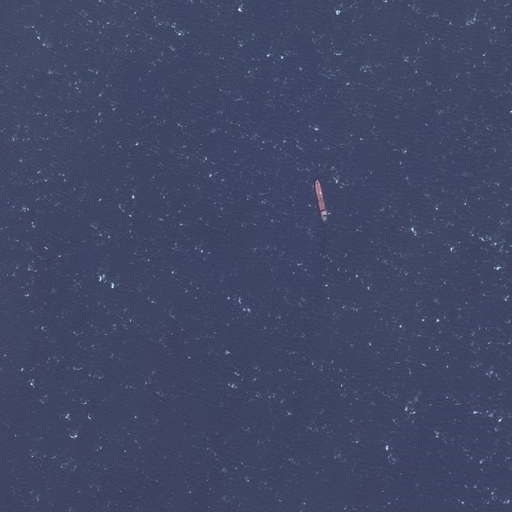ship: (311, 177, 331, 226)
